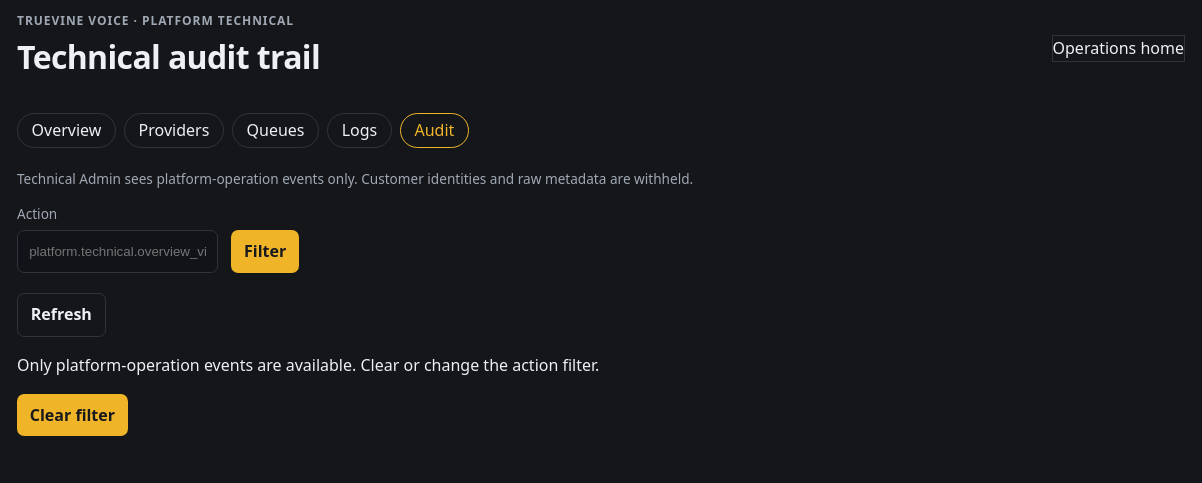
Test: Technical Admin pages › explains audit query error 403/technical_audit_scope and recovers by clearing it
The width and height of the screenshot is (1202, 483).
Expected: the message shows "Only platform-operation events are available", left=17, top=354, right=599, bottom=376
Click the button "Clear filter" at (72,415), box left=17, top=394, right=128, bottom=436
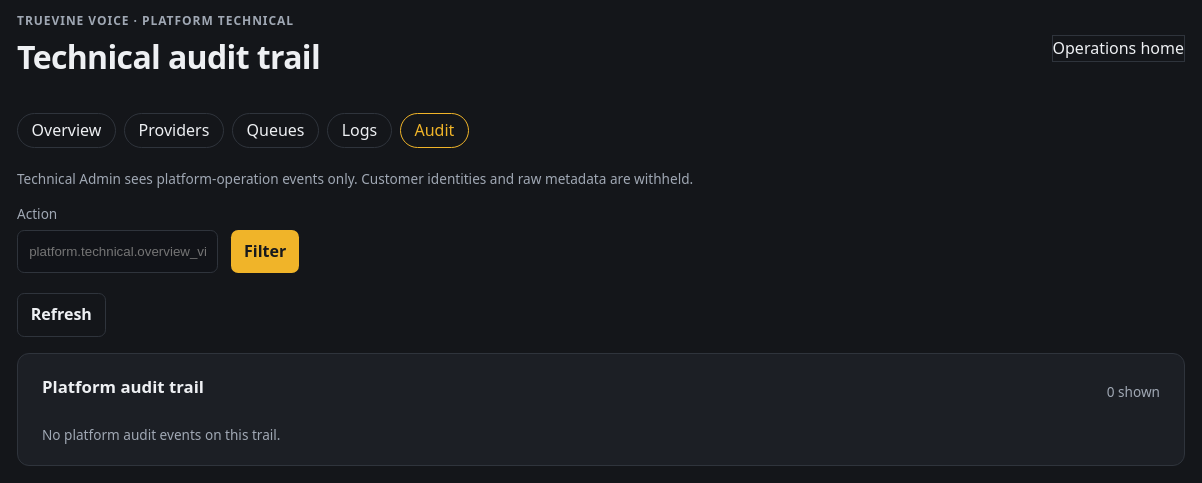
Result: the text "No platform audit events" is shown at left=42, top=425, right=280, bottom=444
Result: the message is gone
